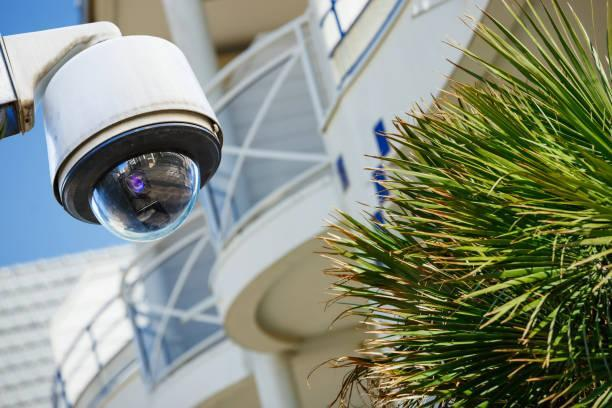camera: (0, 0, 280, 269)
